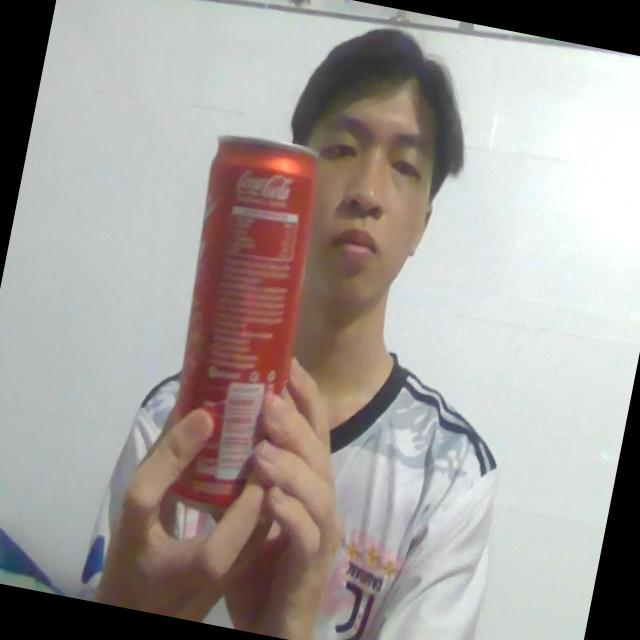cocacola: (129, 112, 355, 532)
